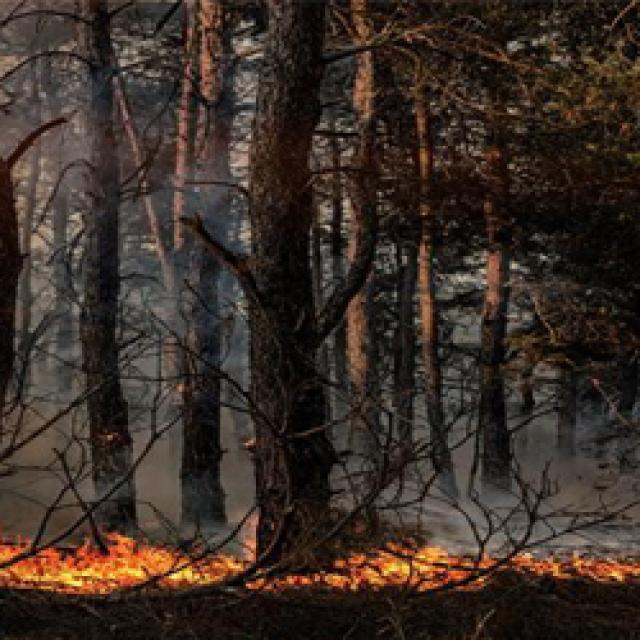Fire: (1, 522, 640, 605)
Smoke: (0, 0, 315, 439), (363, 388, 640, 562)
